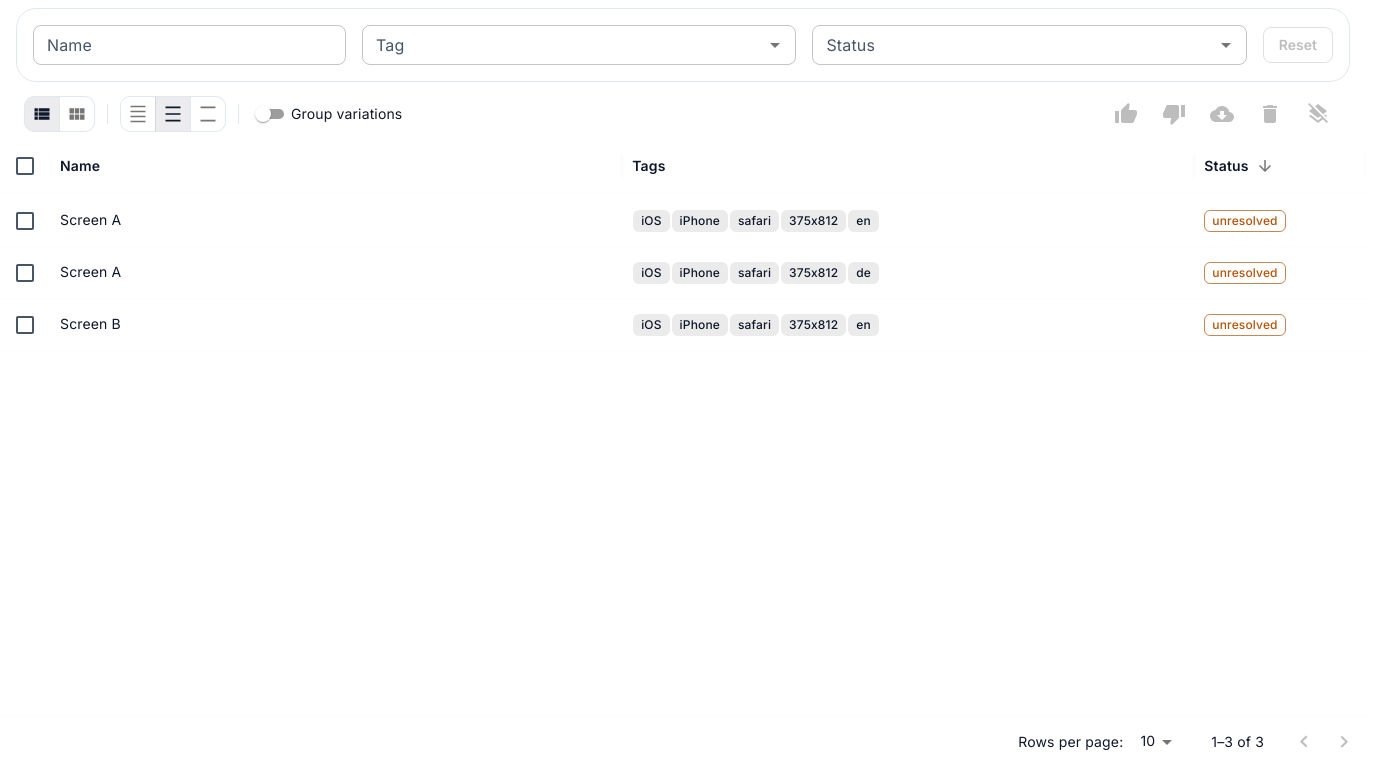
Test: TestRunList grouping › lists every run on its own until grouping is switched on
Click the switch labelled "Group variations".
click(327, 114)  # box top-left (251, 102), bottom-right (402, 126)
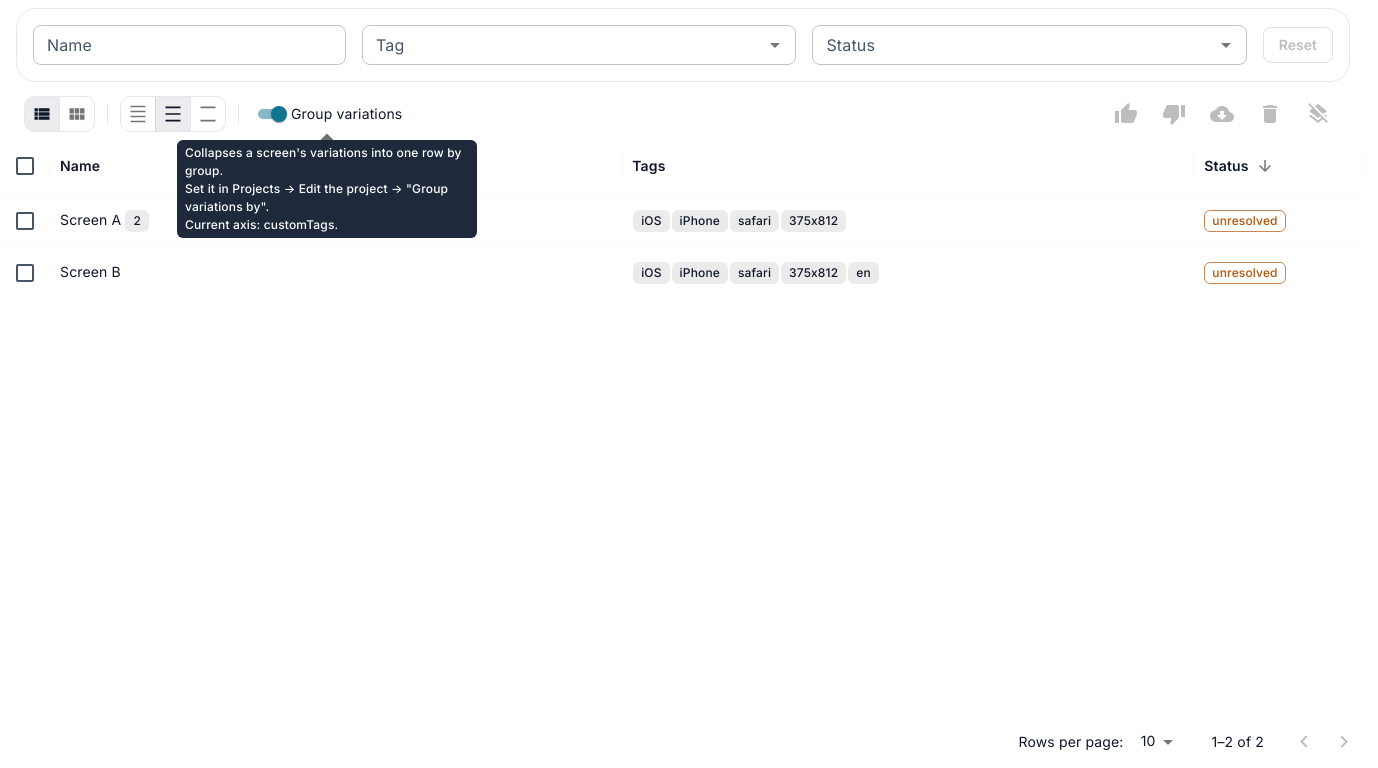
Check: the element with test id "groupCount" reads "2", box top-left (133, 212), bottom-right (141, 228)
